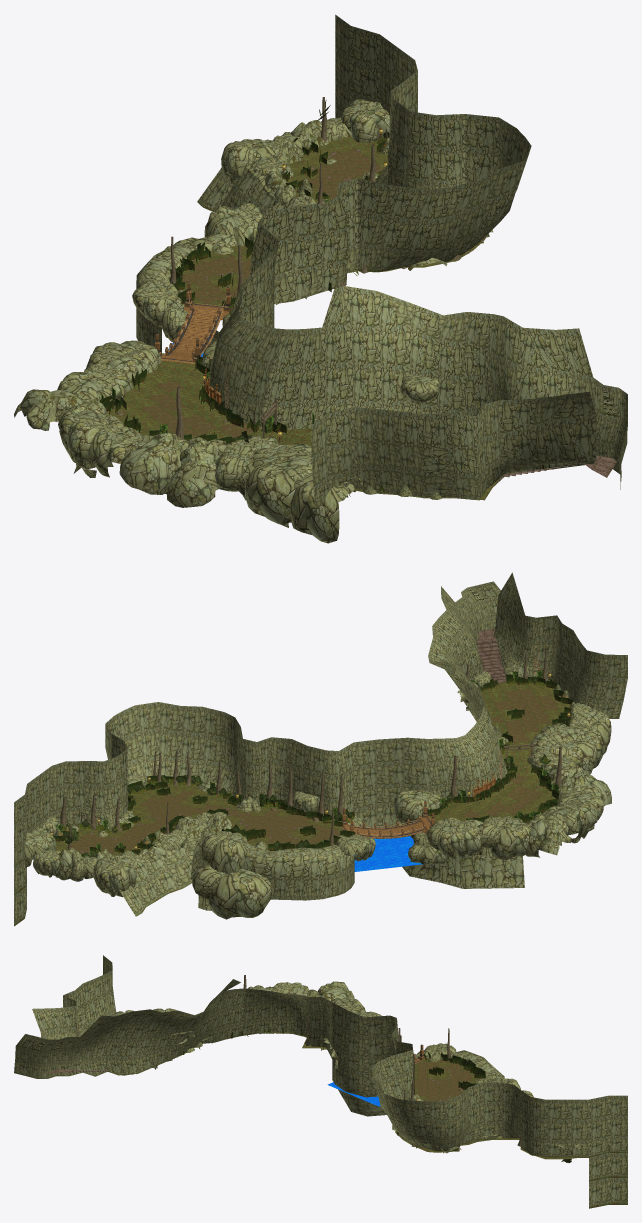
File: JangPhanPha_Level_2_1.FBX
The picture shows the model from 3 angles, top to bottom: view 1: azimuth 30°, elevation 25°; view 2: azimuth 150°, elevation 25°; view 3: azimuth 270°, elevation 25°; orthographic projection. The views are drawn at different scales.
Visible parts, largest first — view 1: 4area_Wall, 1area_Wall, 3area_Wall, 2area_Wall, 3area_Ground, 1area_Ground, 2area_Bridge, 2area_Ground, 3area_Plant, 4area_Ground, 2area_Plant, 1area_Plant (+2 smaller); view 2: 1area_Wall, 2area_Wall, 3area_Wall, 4area_Wall, 4area_Ground, 1area_Ground, 3area_Ground, 1area_Plant, 2area_Ground, 2area_Plant, 3area_Plant, Water_2_1 (+6 smaller); view 3: 1area_Wall, 4area_Wall, 2area_Wall, 3area_Wall, 2area_Ground, 2area_Plant, 1area_Ground.
Boxes of the visible parts, x1,y1,x2,y2 form: 4area_Wall: (215,286,627,543); 1area_Wall: (197,14,531,271); 3area_Wall: (14,272,285,507); 2area_Wall: (132,178,358,351); 3area_Ground: (107,360,283,442); 1area_Ground: (281,136,486,272); 2area_Bridge: (154,282,232,363); 2area_Ground: (180,245,357,306); 3area_Plant: (99,355,286,444); 4area_Ground: (278,428,616,500); 2area_Plant: (169,237,334,313); 1area_Plant: (282,100,389,271); 1area_Wall: (14,702,242,926); 2area_Wall: (190,737,407,919); 3area_Wall: (394,706,611,888); 4area_Wall: (428,572,627,773); 4area_Ground: (460,629,570,761); 1area_Ground: (56,783,236,855); 3area_Ground: (429,760,558,821); 1area_Plant: (54,774,241,857); 2area_Ground: (227,806,342,849); 2area_Plant: (222,793,355,850); 3area_Plant: (427,754,558,822); Water_2_1: (354,836,422,871); 1area_Wall: (372,1050,627,1208); 4area_Wall: (14,955,245,1078); 2area_Wall: (332,1002,533,1116); 3area_Wall: (240,981,381,1068); 2area_Ground: (414,1058,480,1101); 2area_Plant: (424,1051,485,1090); 1area_Ground: (395,1130,580,1159).
Bounding box in the file's own units: 130 × 47.39 × 196.
Materials: 3 (3 with a texture image).
